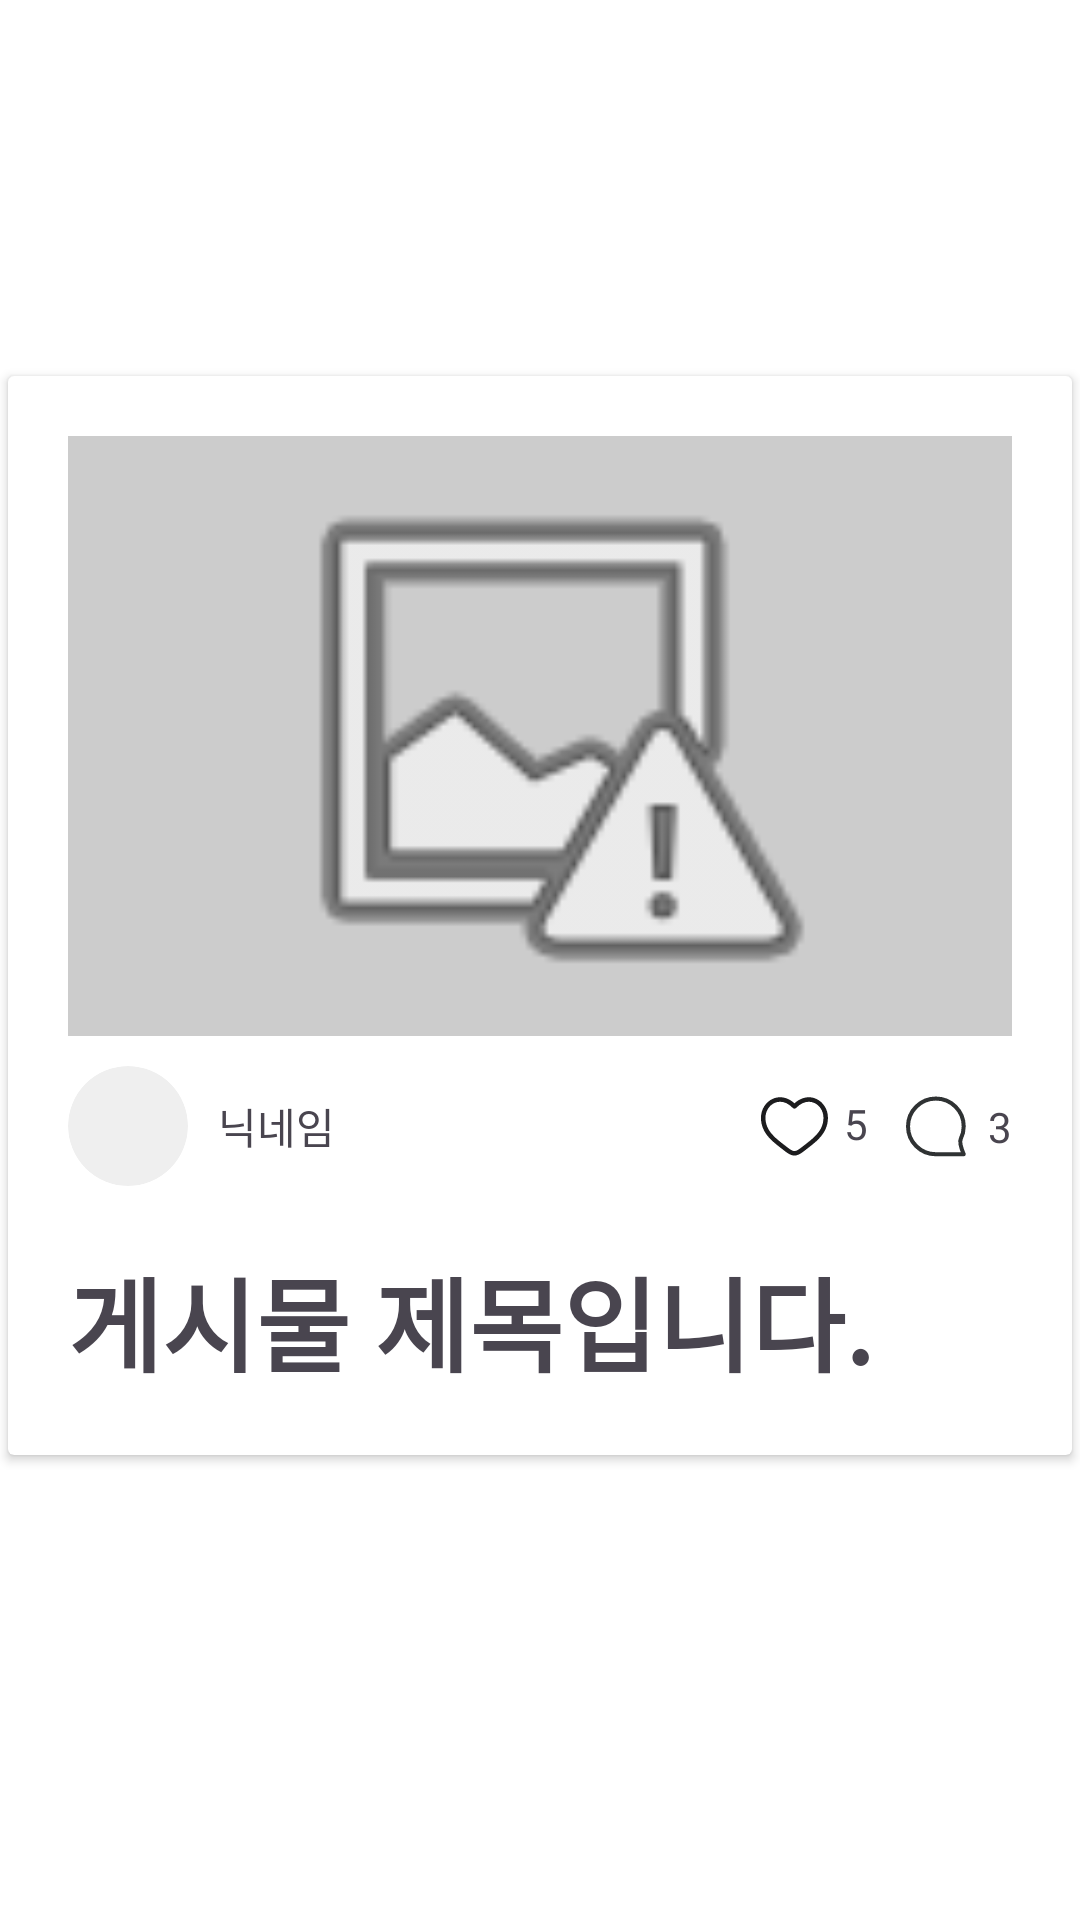

Screen size 1080x1920. Icon name, then its box in pixels as (x1, y1, x2, y2):
chat: (906, 1096, 966, 1157)
like off: (761, 1097, 828, 1156)
